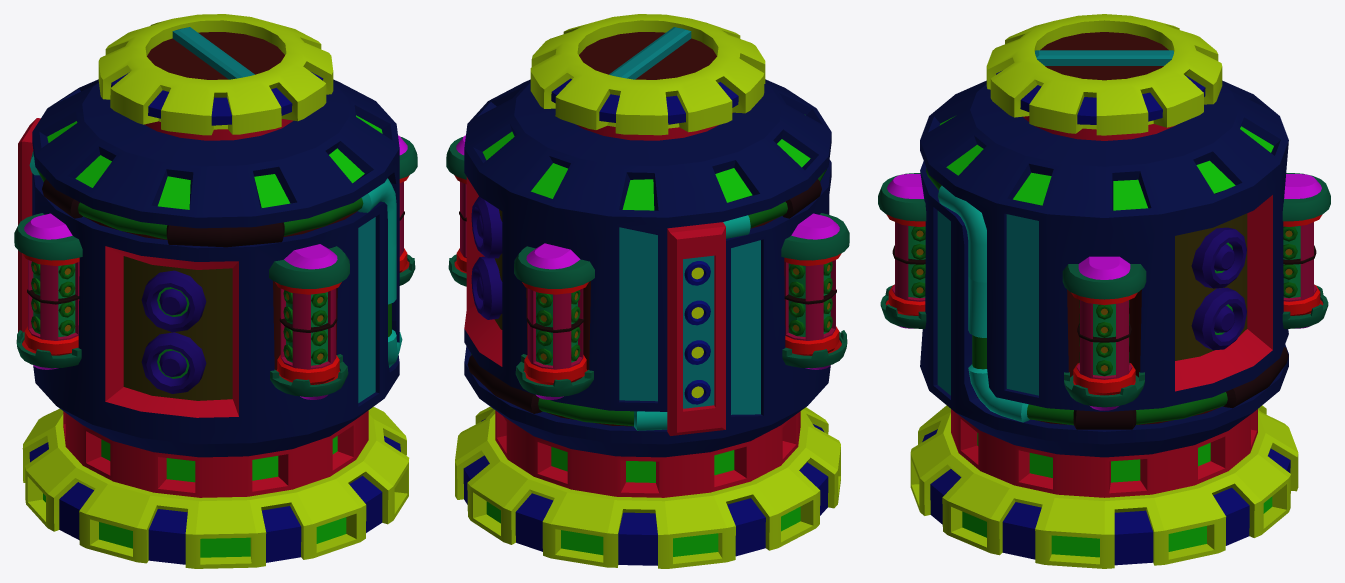
File: OBJ_Generateur_batterie.fbx
3 renders of one model, left to right at view 1: azimuth 30°, elevation 25°; view 2: azimuth 150°, elevation 25°; view 3: azimuth 270°, elevation 25°, orthographic.
Visible parts, largest first — view 1: OBJ_Generateur_Batterie; view 2: OBJ_Generateur_Batterie; view 3: OBJ_Generateur_Batterie.
Part boxes in pixels (box(x1,y1,x2,y2)): OBJ_Generateur_Batterie: box(14, 14, 417, 568); OBJ_Generateur_Batterie: box(446, 14, 849, 568); OBJ_Generateur_Batterie: box(878, 14, 1330, 568).
Size of the model in its own units: 467 by 496 by 467.
